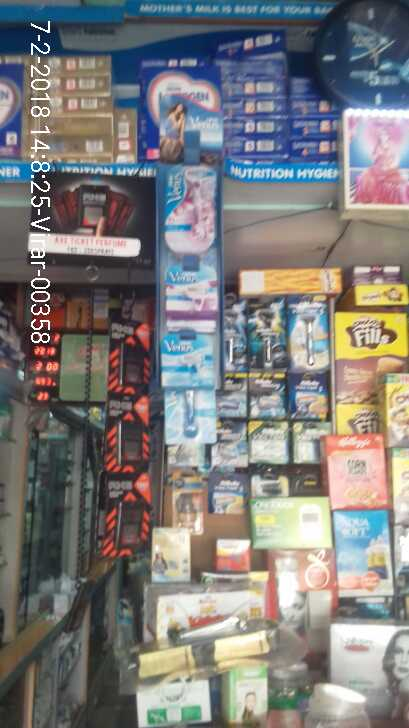B: (320, 546, 391, 613)
beauty: (164, 165, 220, 256), (284, 301, 330, 373), (165, 261, 218, 320), (159, 336, 212, 388), (163, 387, 207, 448), (247, 306, 287, 368), (253, 414, 291, 464), (285, 377, 330, 418), (248, 375, 290, 416), (216, 418, 247, 468), (224, 313, 250, 369), (220, 372, 248, 422), (296, 422, 328, 464), (212, 473, 240, 510)
